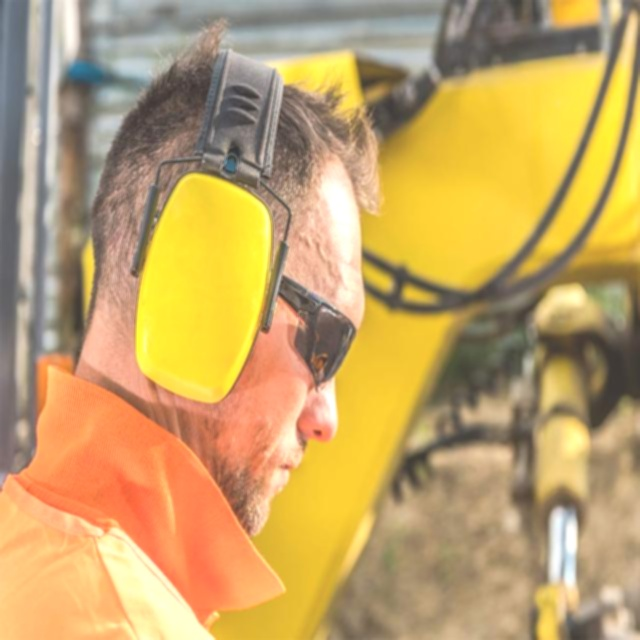goggles: (253, 274, 375, 383)
